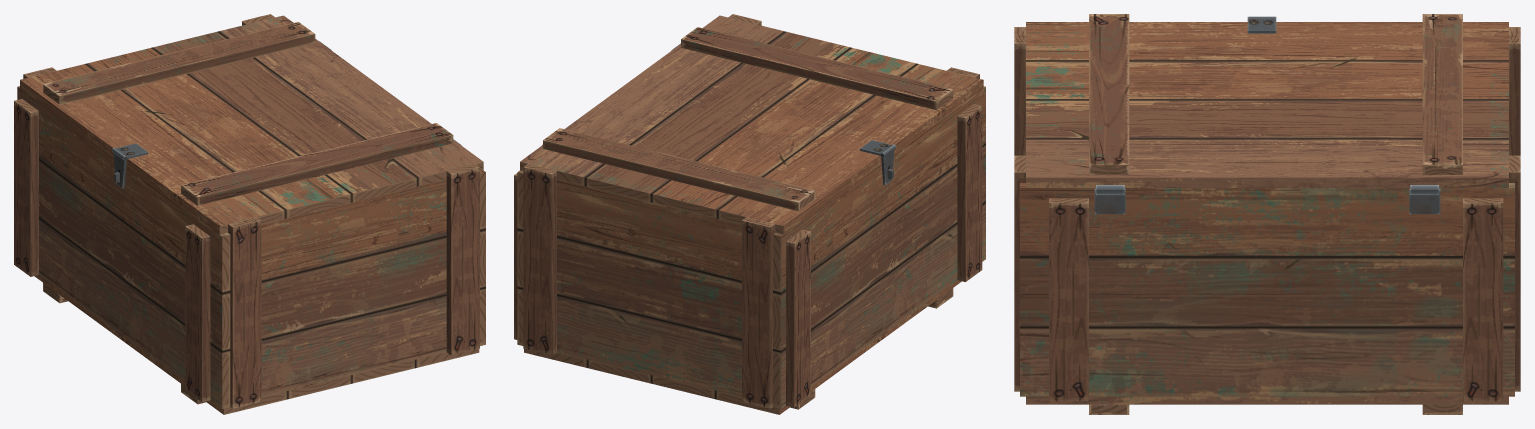
Rendered from crate01.FBX.
3 renders of one model, left to right at view 1: azimuth 30°, elevation 25°; view 2: azimuth 150°, elevation 25°; view 3: azimuth 270°, elevation 25°, orthographic. The views are drawn at different scales.
Parts seen in each view (by area): view 1: crate01, crate01_lid; view 2: crate01, crate01_lid; view 3: crate01, crate01_lid.
Boxes of the visible parts, x1,y1,x2,y2 form: crate01: [14, 14, 485, 414]; crate01_lid: [20, 15, 483, 234]; crate01: [514, 14, 985, 414]; crate01_lid: [520, 15, 983, 234]; crate01: [1014, 27, 1520, 414]; crate01_lid: [1026, 14, 1508, 195].
Size of the model in its own units: 68 by 48 by 88.
